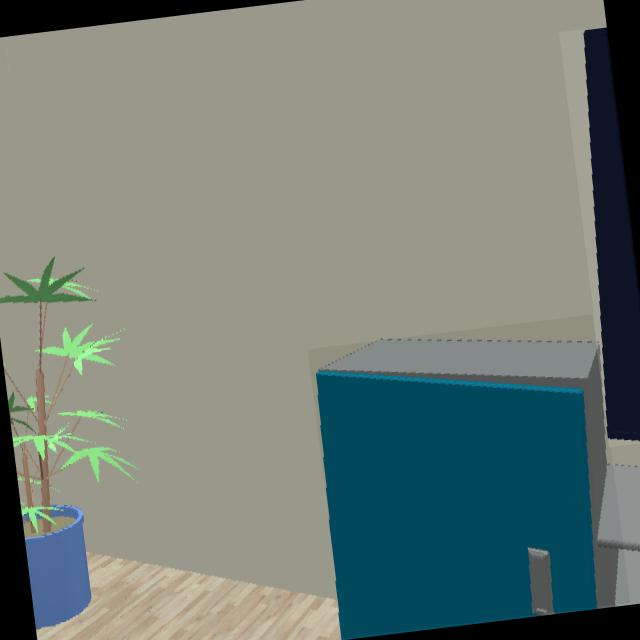cabinet: (317, 339, 617, 638)
monitor: (585, 27, 640, 439)
